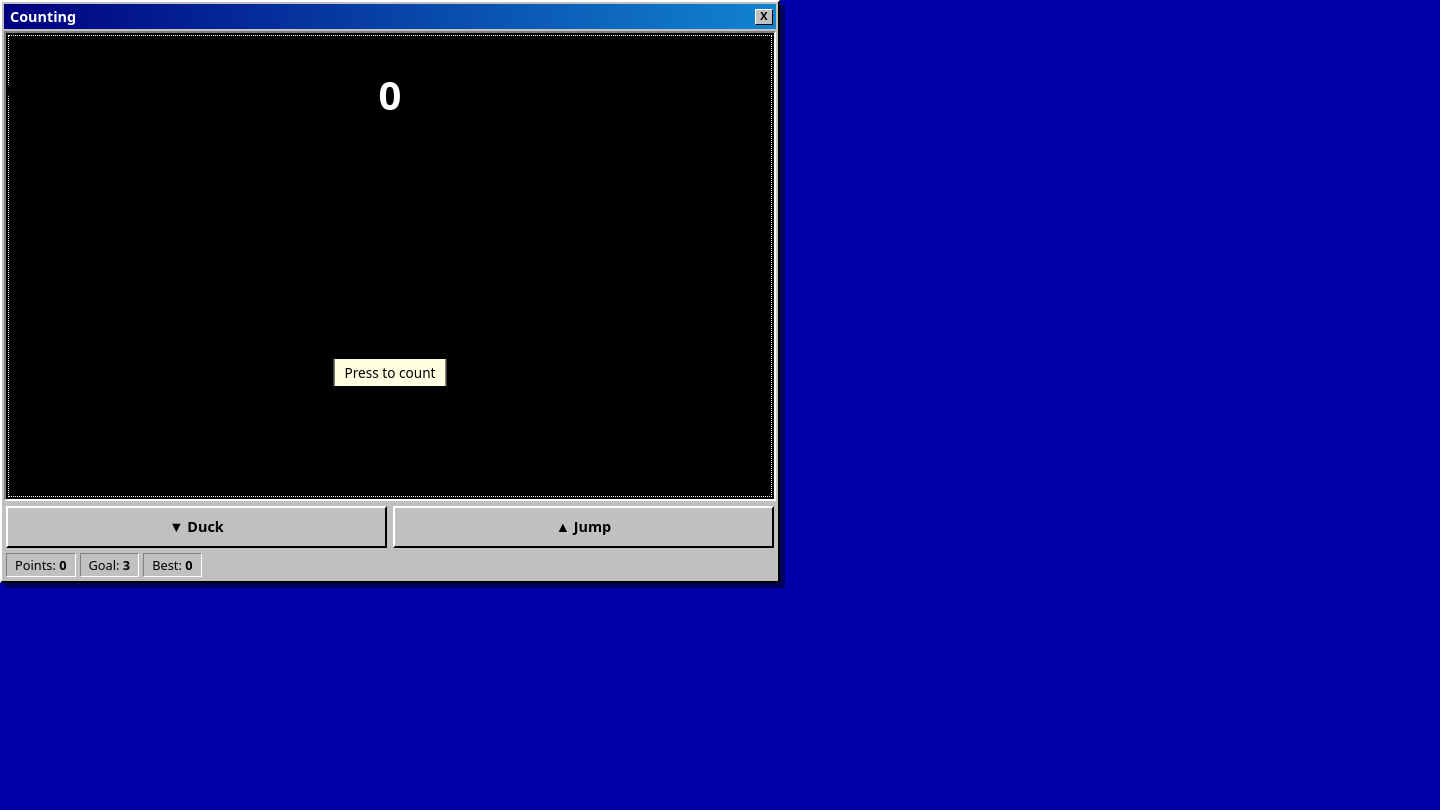
the window a game is played in › should take a duck from the button held for it, for whoever has no keyboard
Press Space
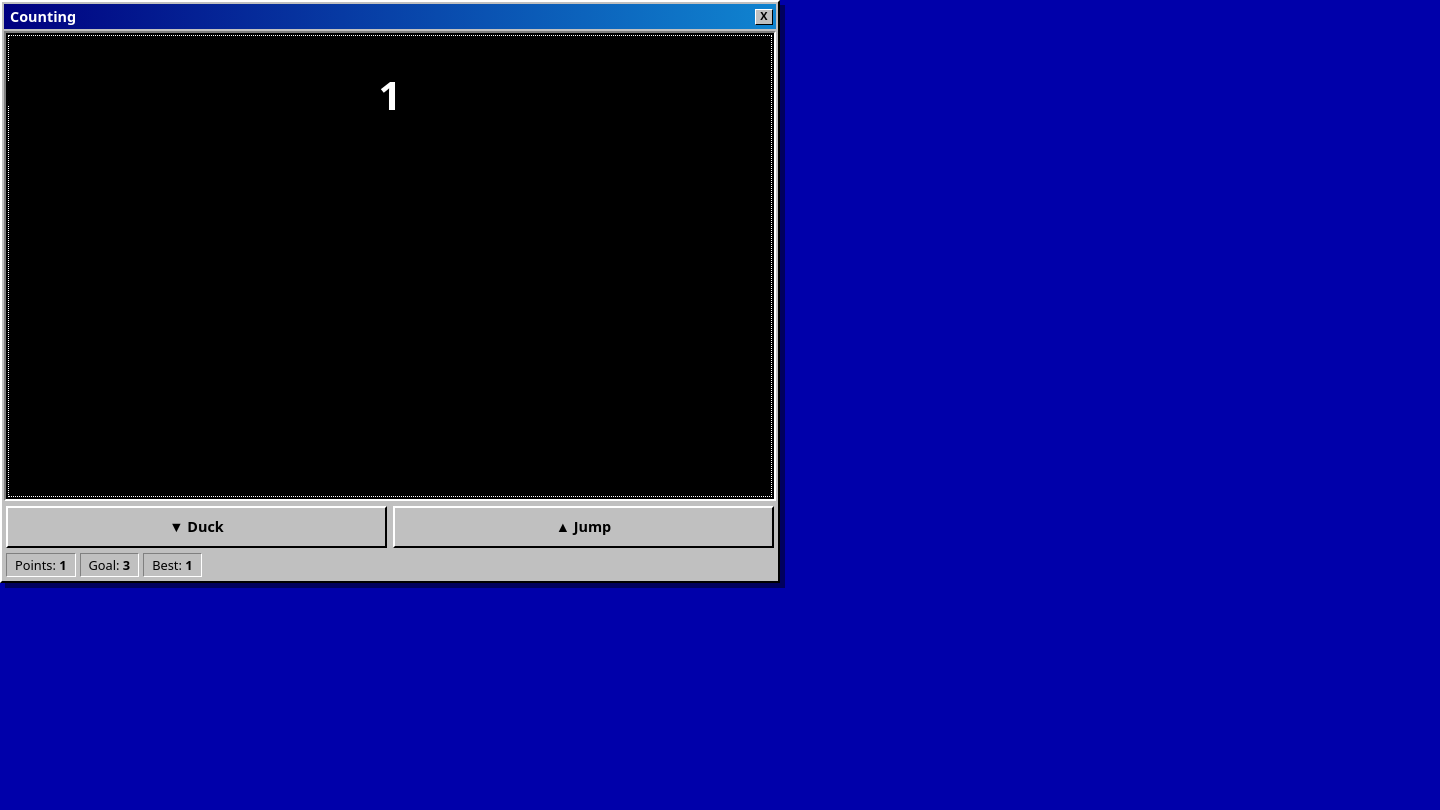
Expected: the text "Points:" reads "Points: 1", [6,553,76,577]
Press the mouse on the button "▼ Duck" at (196, 527), box [6,506,387,548]
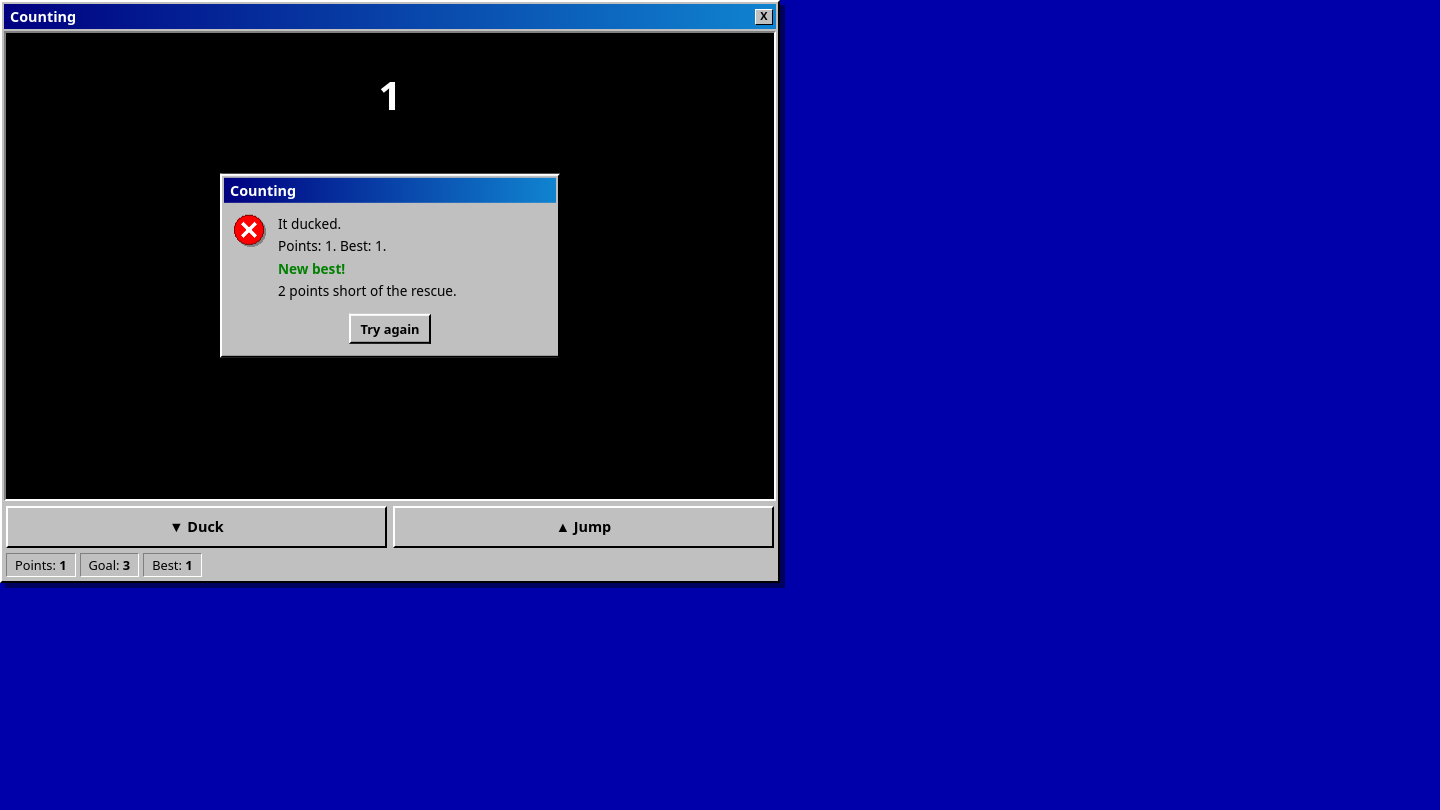
Expected: the dialog shows "It ducked.", [278,214,341,233]
